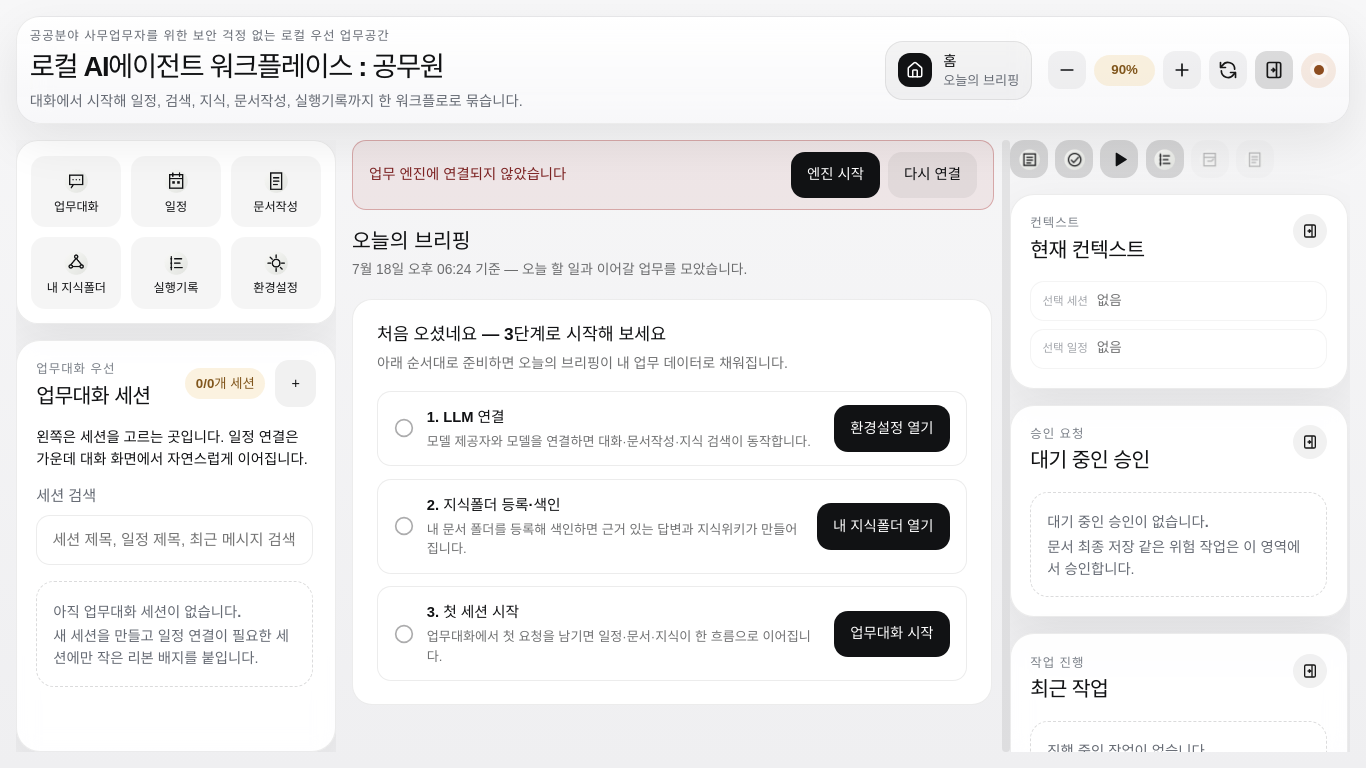
it: work session file links › unlinks a session file from the modal linked list (W5-3)
Click the button "업무대화" at (76, 192), box 31,156 -> 121,227
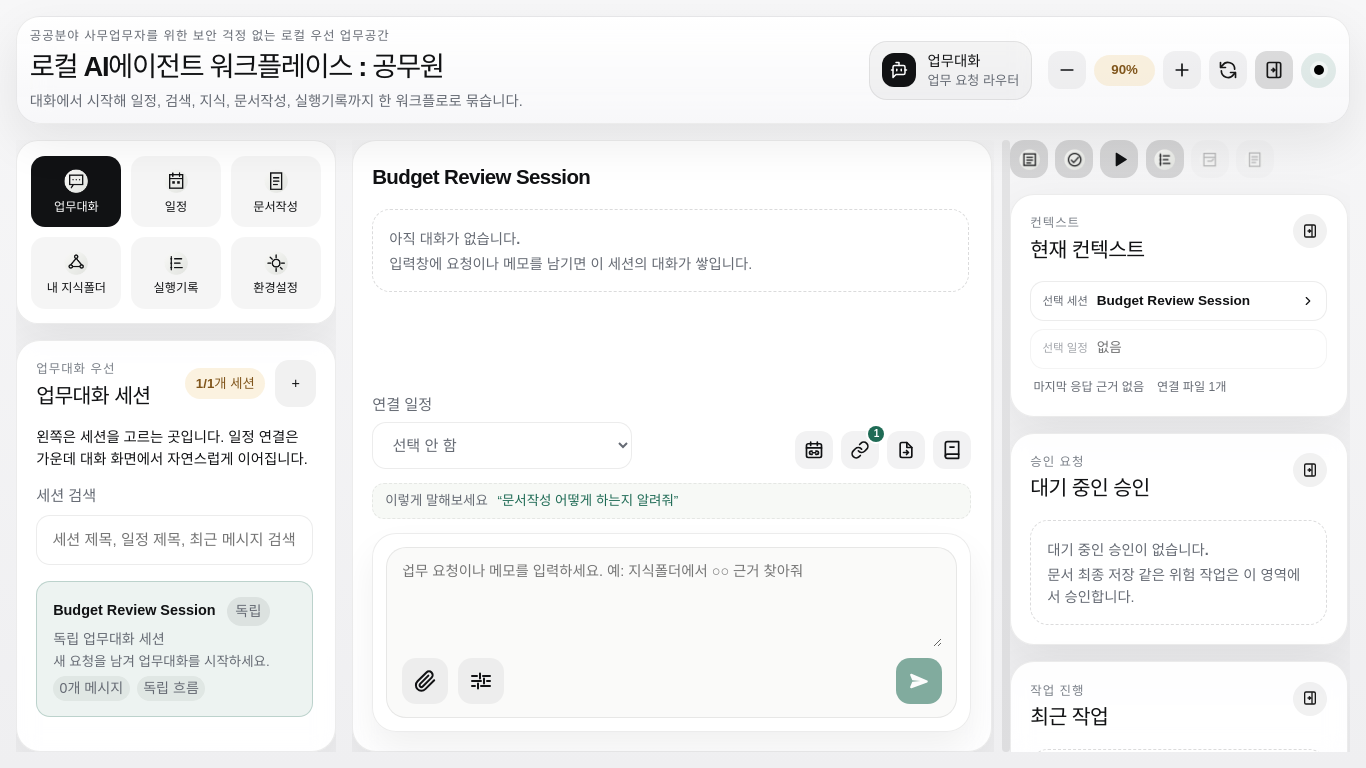
Result: the element with test id "chat-workspace" is shown at 372,209 -> 971,732
Result: the icon with test id "chat-file-links-badge" reads "1" at 874,428 -> 879,439
Click the button named "파일 연결" at (860, 450), box 841,431 -> 879,469
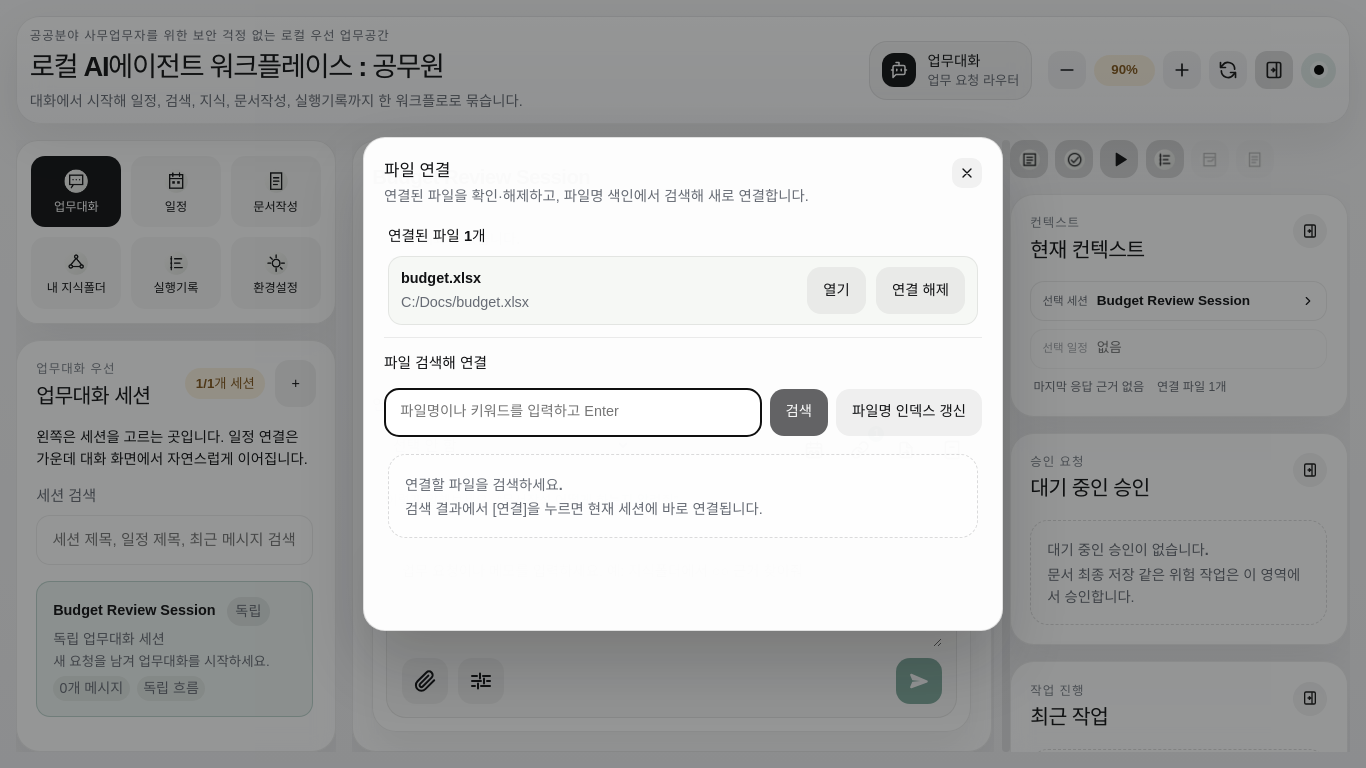
Click the button with aria-label "budget.xlsx 연결 해제" at (920, 291), box 876,267 -> 965,314
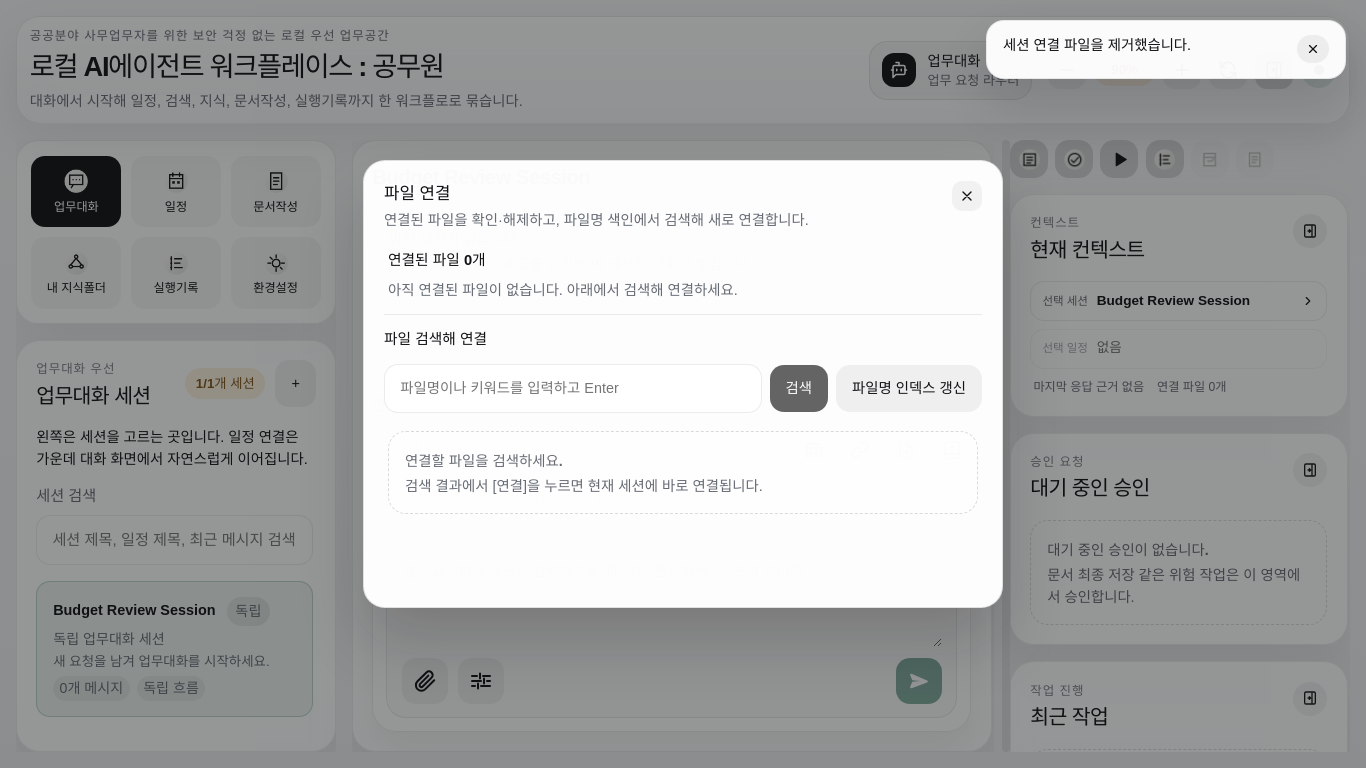
Result: the text with test id "chat-file-link-count" reads "연결된 파일 0개" at 388,252 -> 486,268
Result: the text "C:/Docs/budget.xlsx" is gone
Result: the text "아직 연결된 파일이 없습니다. 아래에서 검색해 연결하세요." is shown at 388,282 -> 738,298
